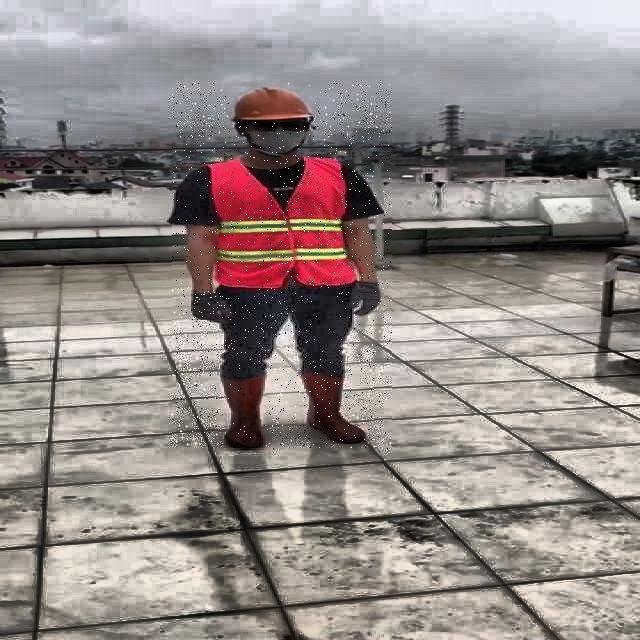safety_helmet: (229, 86, 314, 122)
safety_jacket: (204, 159, 352, 288)
